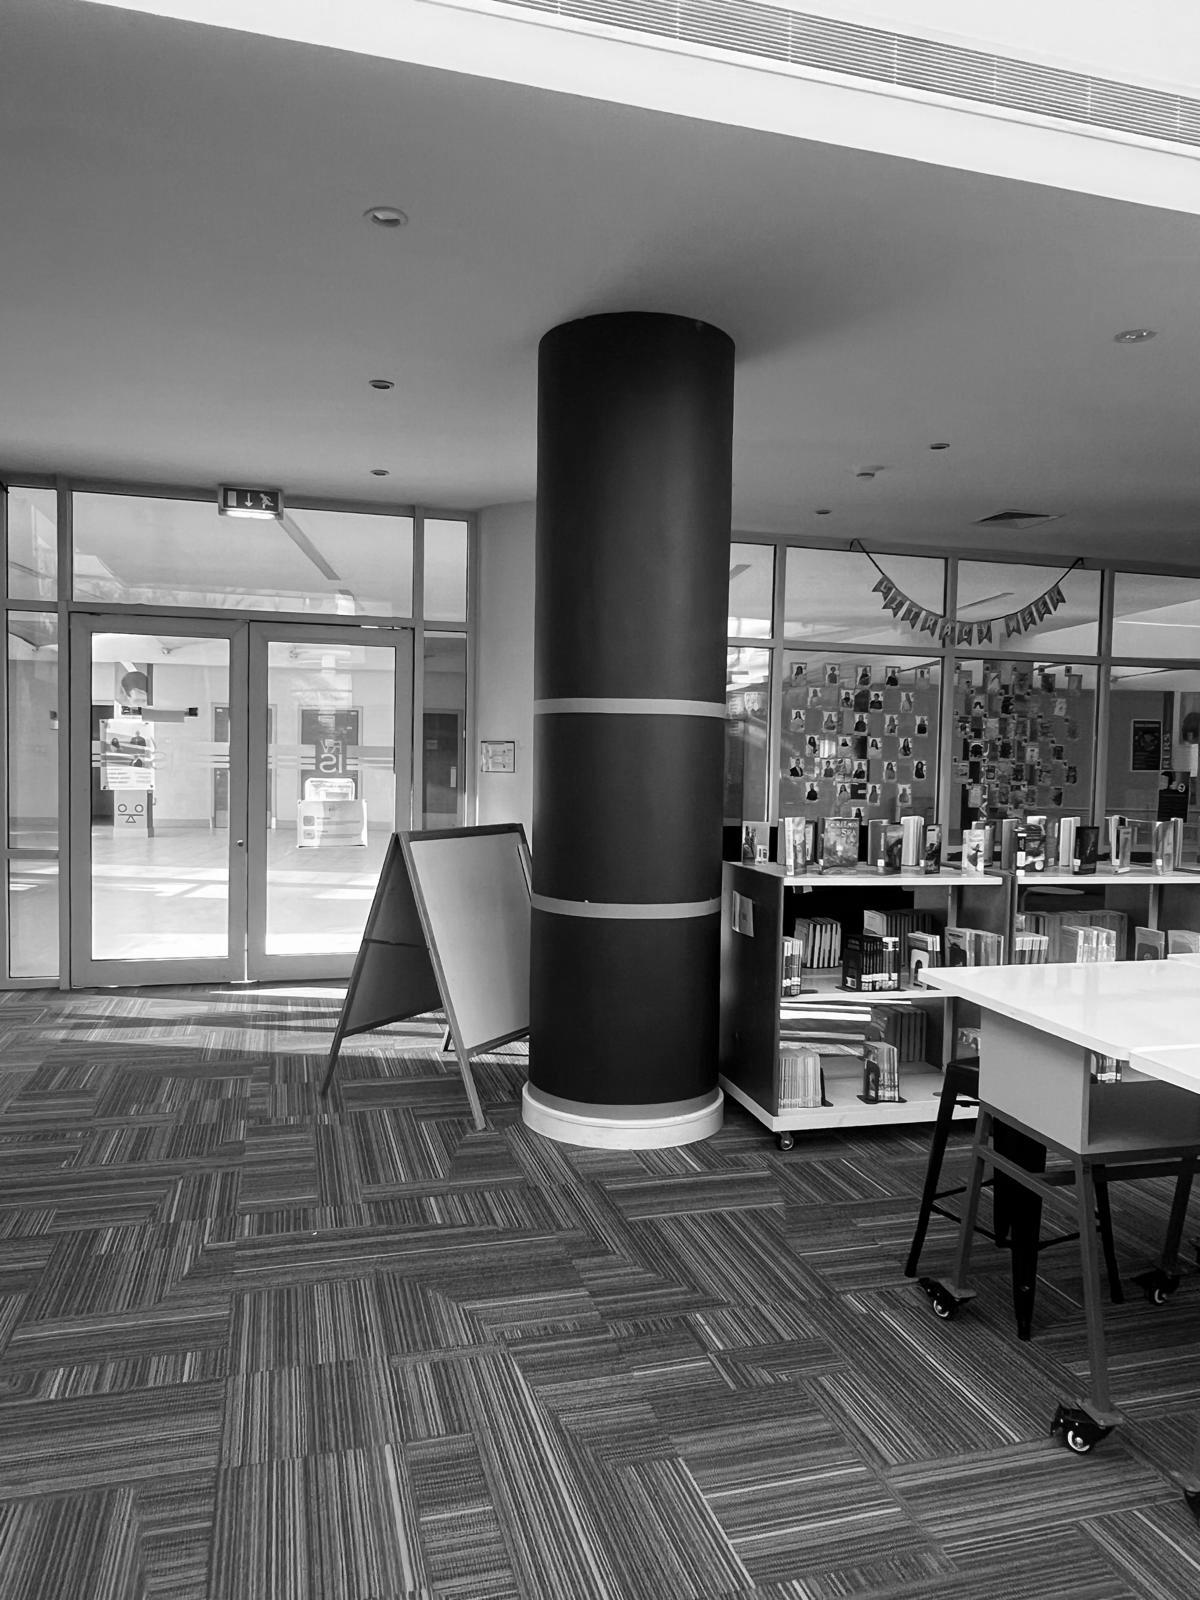Chair: (904, 1058, 976, 1277)
Pillar: (531, 312, 734, 1123), (476, 501, 532, 843)
Table: (921, 957, 1199, 1453)
